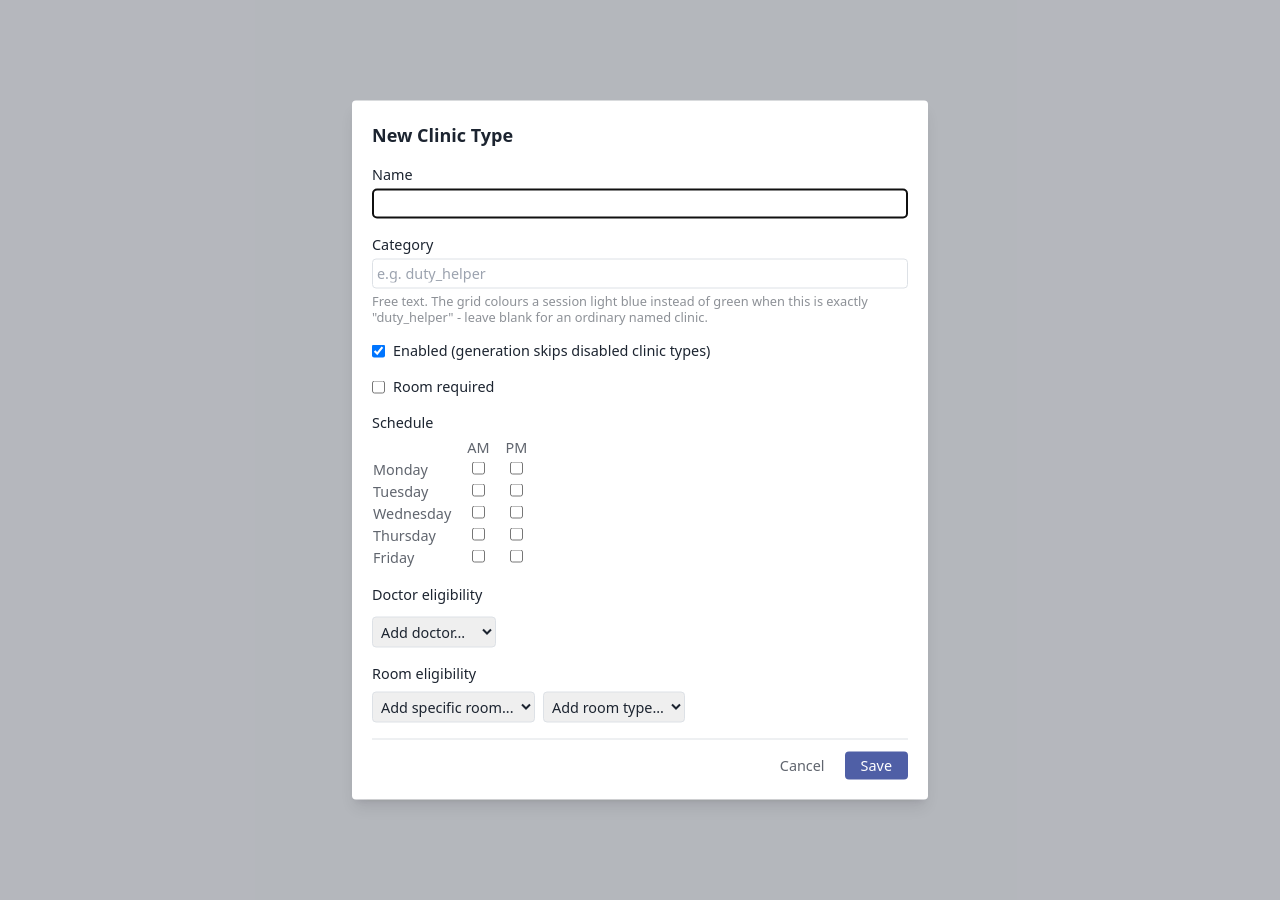
Scenario: ClinicTypeFormDialog - create mode › 'All doctors' excludes Trainees and AHPs, adding only Partners and Salaried doctors
The width and height of the screenshot is (1280, 900).
Step 1. Select "All doctors" in the dropdown named "Add doctor" → (434, 632), box [372,616,496,648]
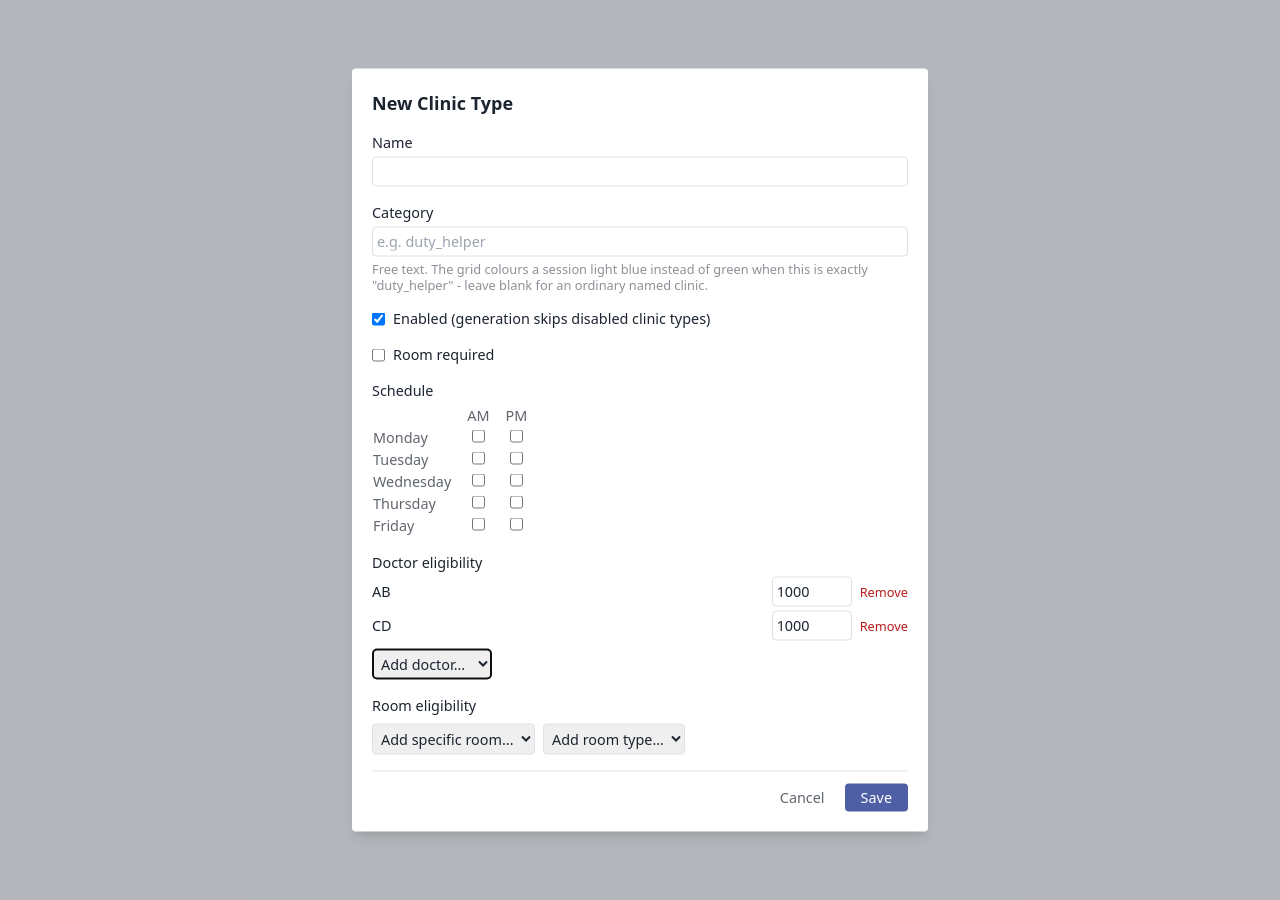
Result: the text "AB" is shown at [372,582,391,600]
Result: the text "CD" is shown at [372,616,392,634]
